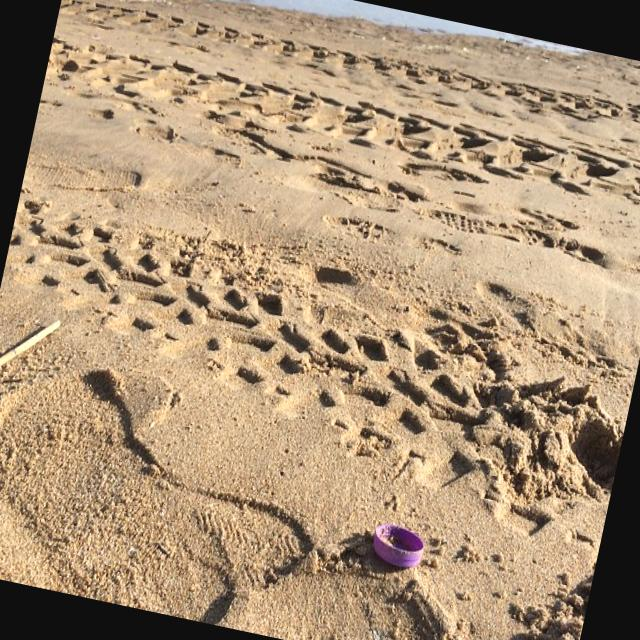Trash: (369, 520, 428, 570)
